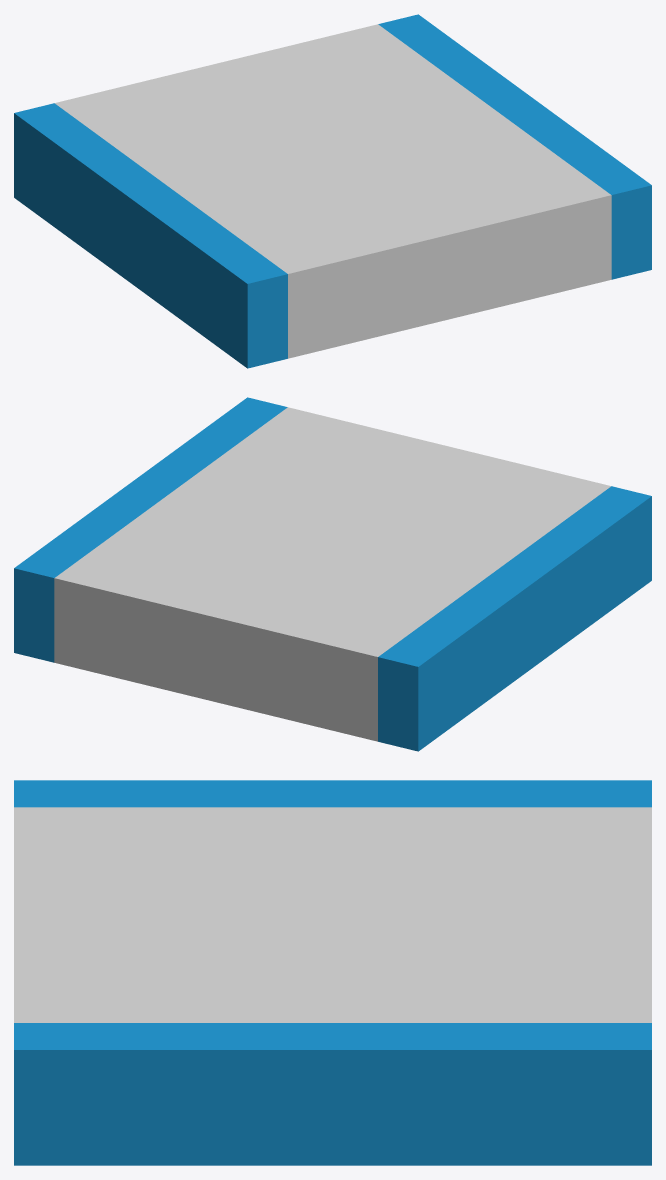
3 views of the same model, one above another, from view 1: azimuth 30°, elevation 25°; view 2: azimuth 150°, elevation 25°; view 3: azimuth 270°, elevation 25° (orthographic). The views are drawn at different scales.
Parts seen in each view (by area): view 1: Box; view 2: Box; view 3: Box.
Part boxes in pixels (x1=…): Box: x1=14, y1=14, x2=651, y2=368; Box: x1=14, y1=397, x2=651, y2=751; Box: x1=14, y1=780, x2=651, y2=1165.
Bounding box in the file's own units: 10 × 2 × 10.
